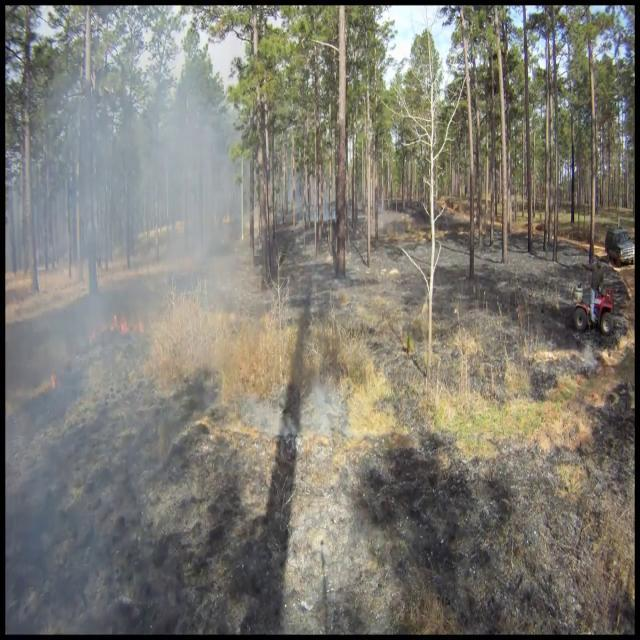Smoke: (8, 37, 264, 620)
